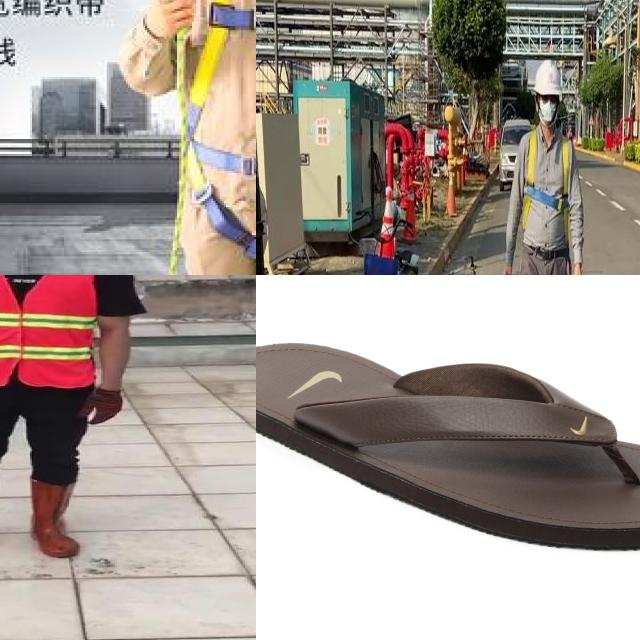Harness: (172, 0, 256, 256), (523, 129, 572, 242)
Sandals: (256, 339, 640, 555)
boots: (30, 478, 83, 559)
person: (0, 275, 144, 559)
vest: (0, 275, 99, 387)
